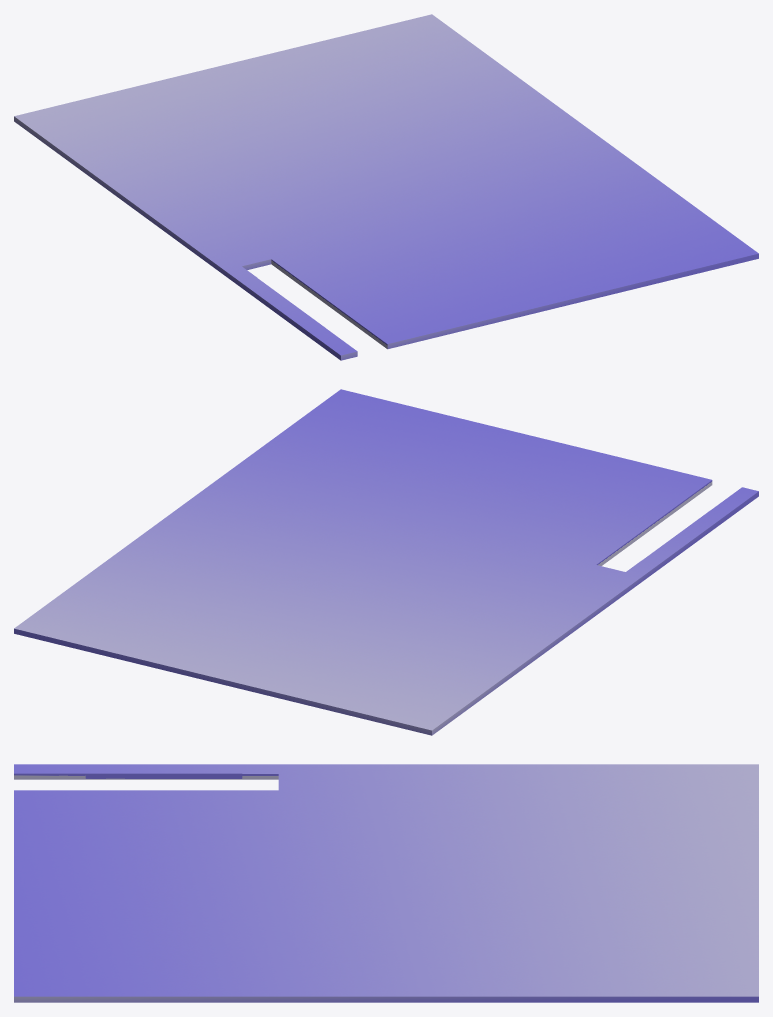
File: terrainone-top.fbx
The picture shows the model from 3 angles, top to bottom: view 1: azimuth 30°, elevation 25°; view 2: azimuth 150°, elevation 25°; view 3: azimuth 270°, elevation 25°; orthographic projection. The views are drawn at different scales.
Visible parts, largest first — view 1: pCube268; view 2: pCube268; view 3: pCube268.
Part boxes in pixels (x1,y1,x2,y2): pCube268: (14,14,758,360); pCube268: (14,389,758,735); pCube268: (14,764,758,1002).
Size of the model in its own units: 47.31 by 0.5579 by 64.08.
1 material, 1 textured.
